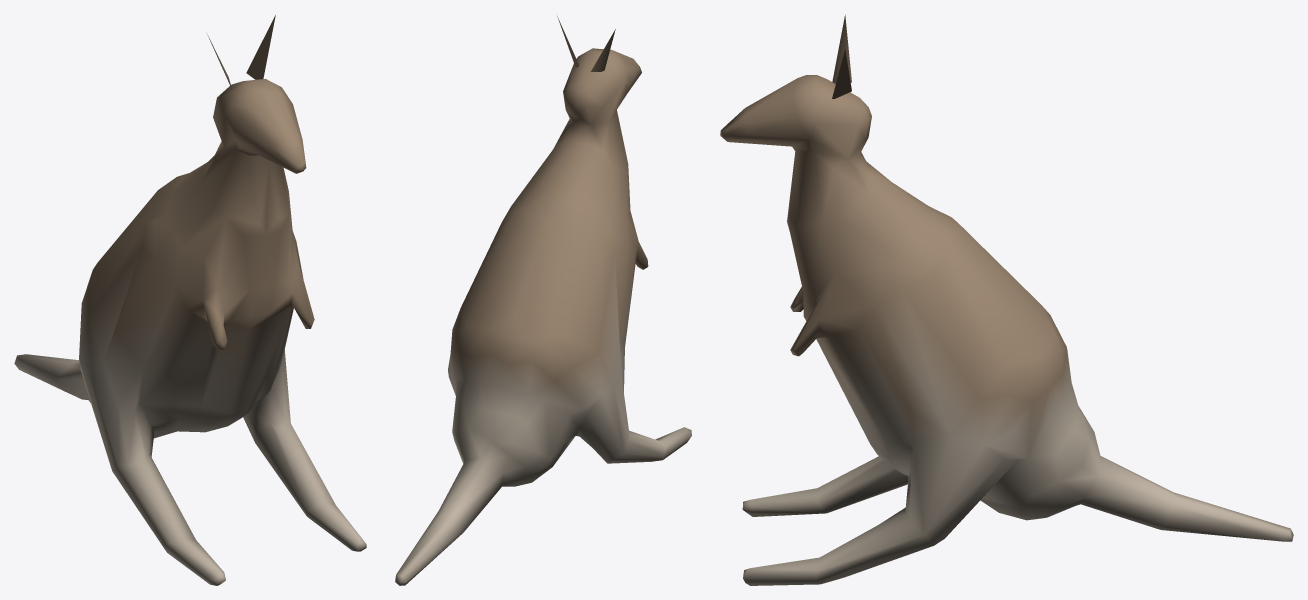
Rendered from kaenguru.glb.
The picture shows the model from 3 angles, left to right: view 1: azimuth 30°, elevation 25°; view 2: azimuth 150°, elevation 25°; view 3: azimuth 270°, elevation 25°; orthographic projection. The views are drawn at different scales.
Parts seen in each view (by area): view 1: lack; view 2: lack; view 3: lack.
Boxes of the visible parts, <box> form: lack: <box>14,15,366,585</box>; lack: <box>395,16,691,585</box>; lack: <box>720,14,1293,585</box>.
Size of the model in its own units: 0.6305 by 1.68 by 1.68.
